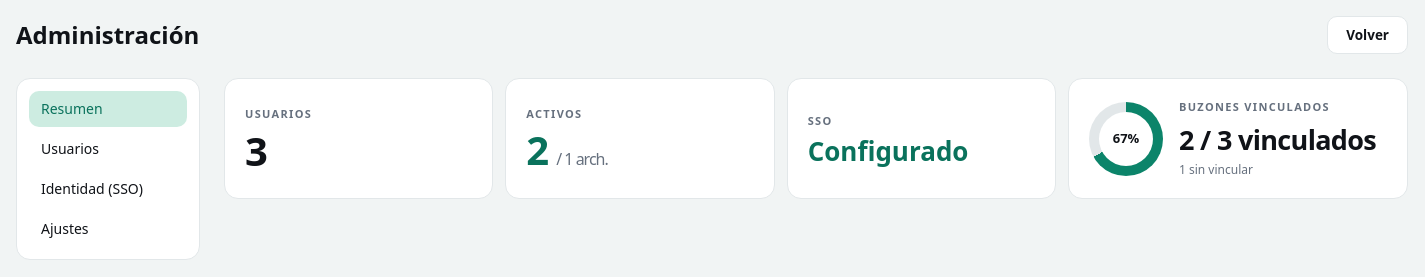
Test: AdminPage console shell › switches to Ajustes and shows the sent-with-footer toggle, off by default
Check: the text "3" is shown, box [245,123,267,178]
Click the button "Ajustes" at (108, 229), box [29,211,187,247]
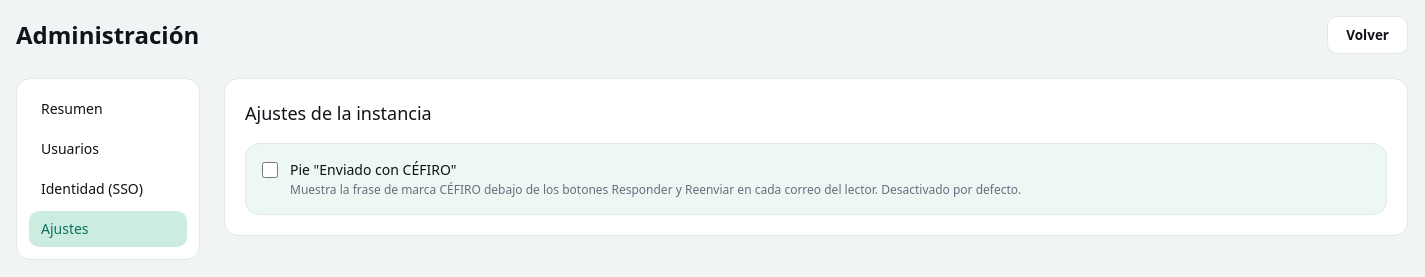
Check: the heading "Ajustes de la instancia" is shown, box [245,101,432,125]
Check: the checkbox labelled "Pie \"Enviado con CÉFIRO\"" is not checked, box [262,162,278,178]
